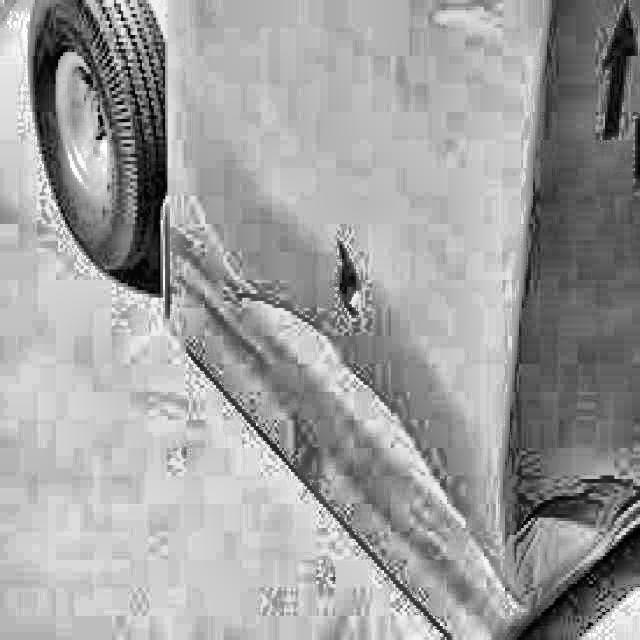box: (152, 0, 639, 639)
hole: (323, 229, 369, 325)
